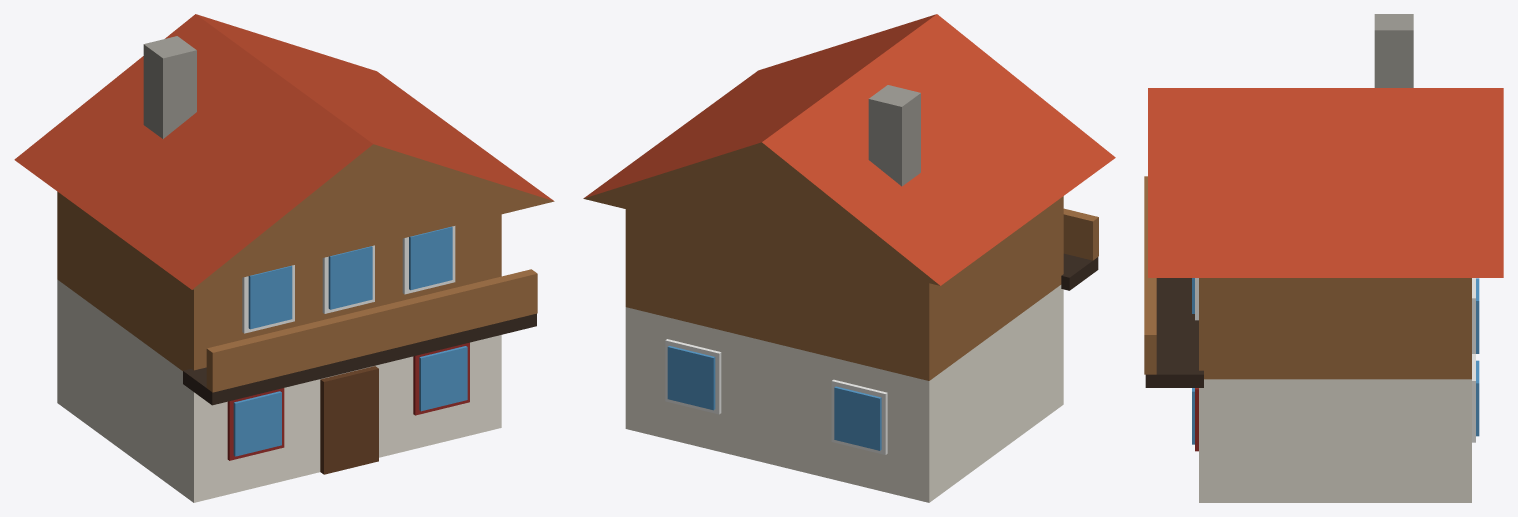
The model's file is 18_bavarian_chalet_3.obj.
The picture shows the model from 3 angles, left to right: view 1: azimuth 30°, elevation 25°; view 2: azimuth 150°, elevation 25°; view 3: azimuth 270°, elevation 25°; orthographic projection.
Visible parts, largest first — view 1: 18_bavarian_chalet_3; view 2: 18_bavarian_chalet_3; view 3: 18_bavarian_chalet_3.
Part boxes in pixels (x1=…): 18_bavarian_chalet_3: x1=14, y1=14, x2=554, y2=502; 18_bavarian_chalet_3: x1=583, y1=14, x2=1115, y2=502; 18_bavarian_chalet_3: x1=1144, y1=14, x2=1503, y2=502.
Size of the model in its own units: 1.72 by 1.66 by 1.48.
